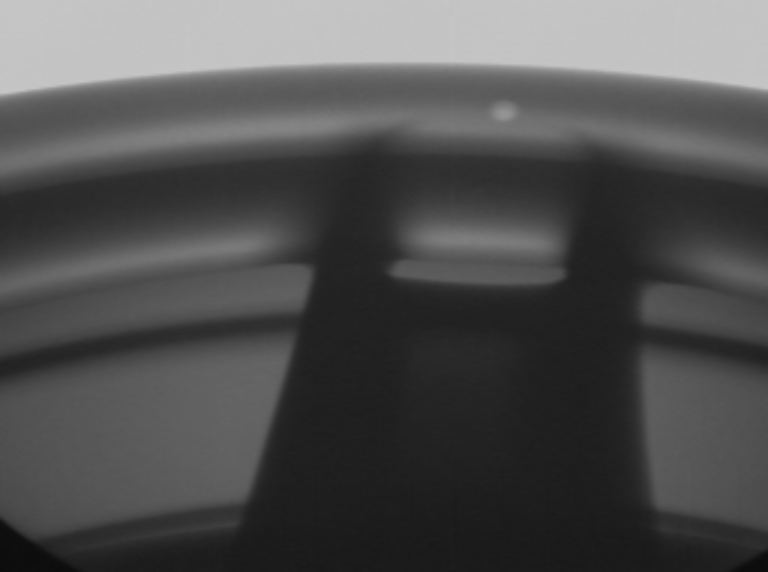defect: (489, 94, 534, 130)
